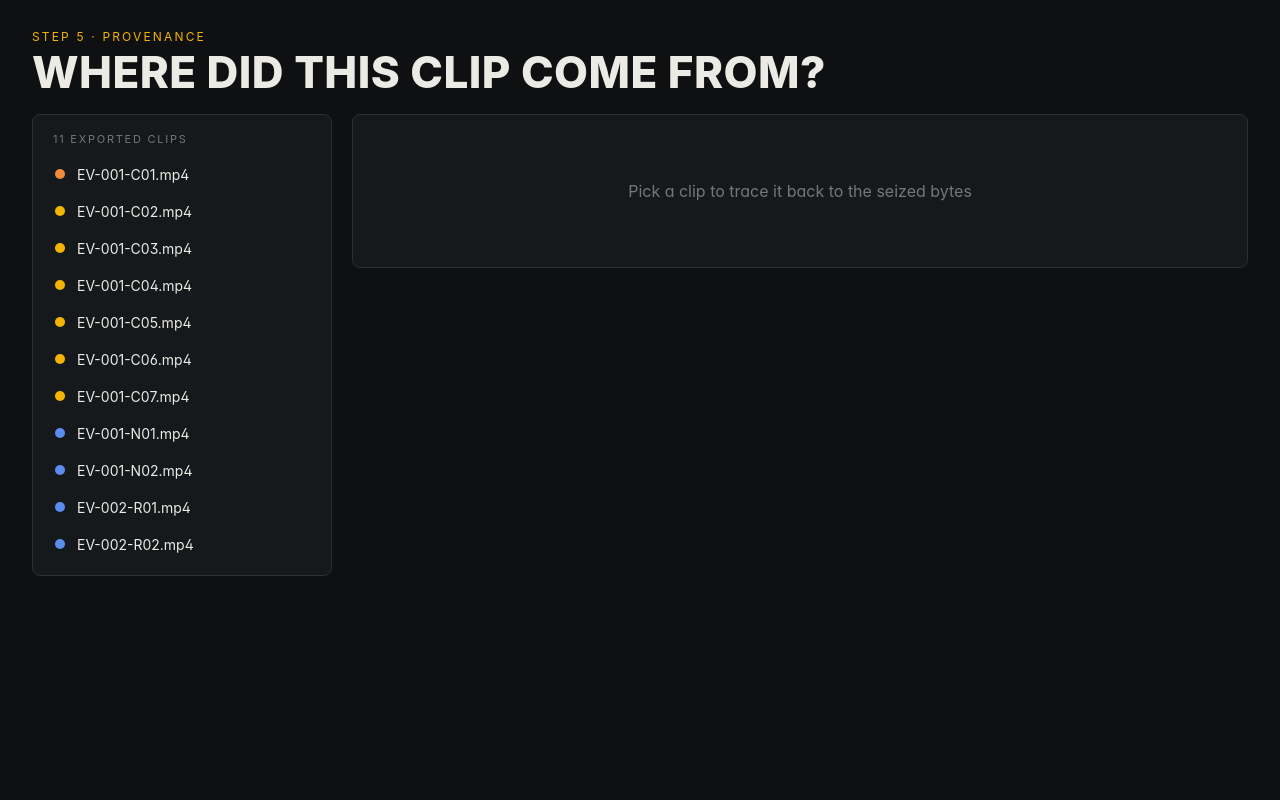
Test: Provenance › a network failure compares nothing
Click the button "EV-001-C01.mp4" at (182, 174), box [45,156,319,192]
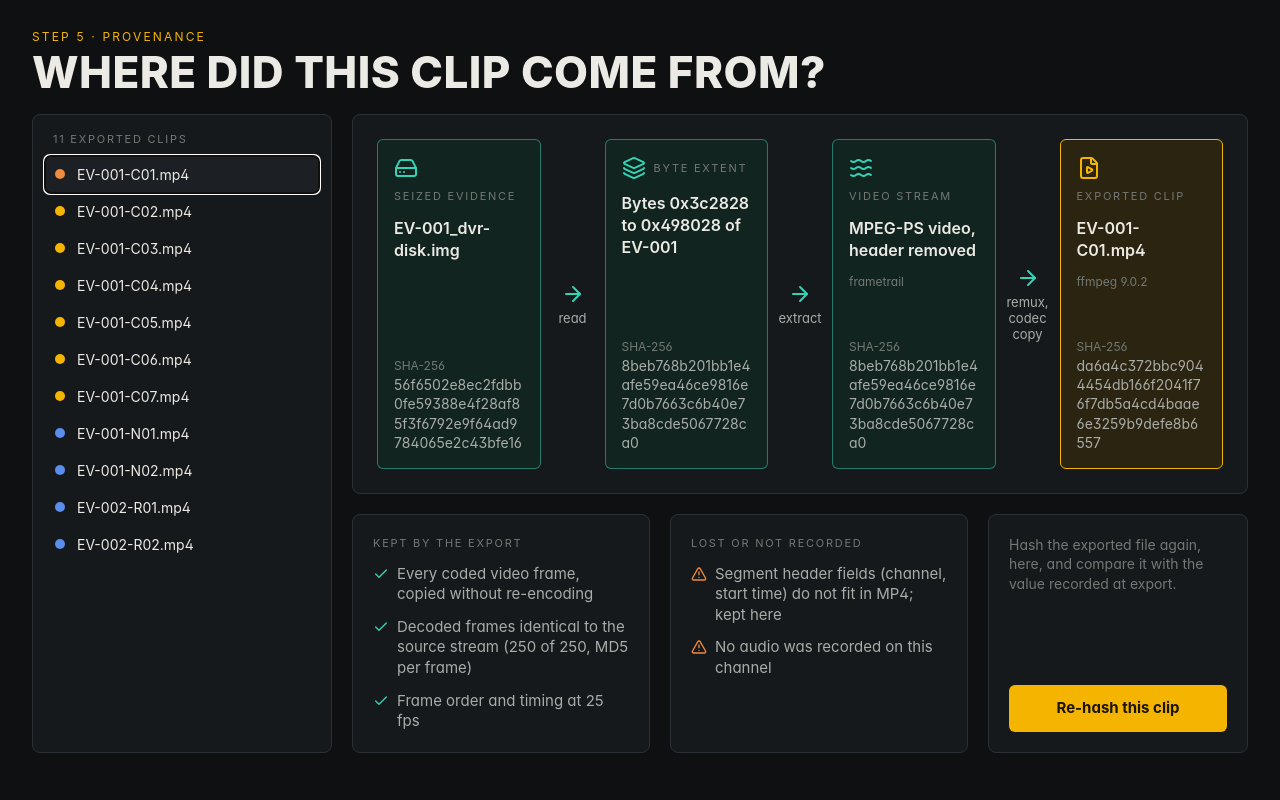
Click the button with test id "rehash" at (1118, 709), box [1009,685,1227,732]
Wait 800 ms
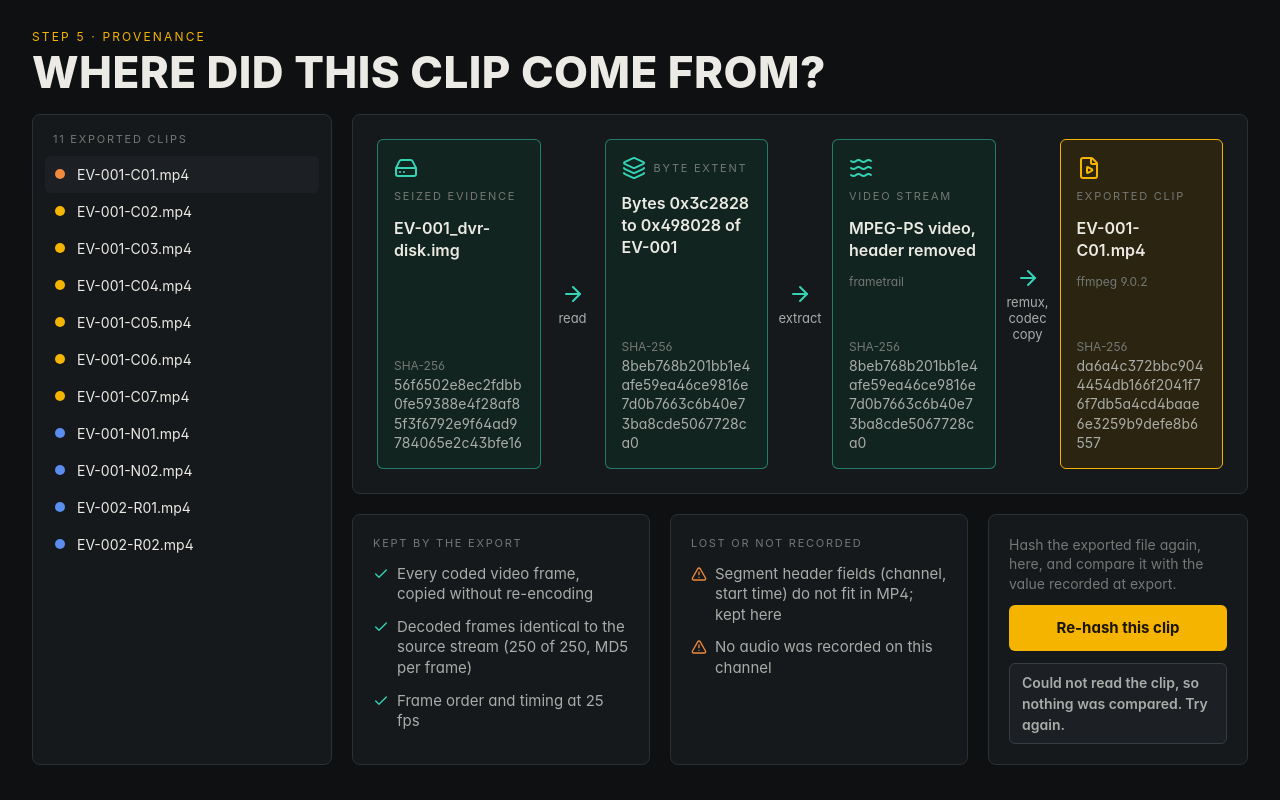
Now the text with test id "rehash-result" reads "Could not read the clip, so nothing was compared. Try again.", box [1022,674,1208,733]
